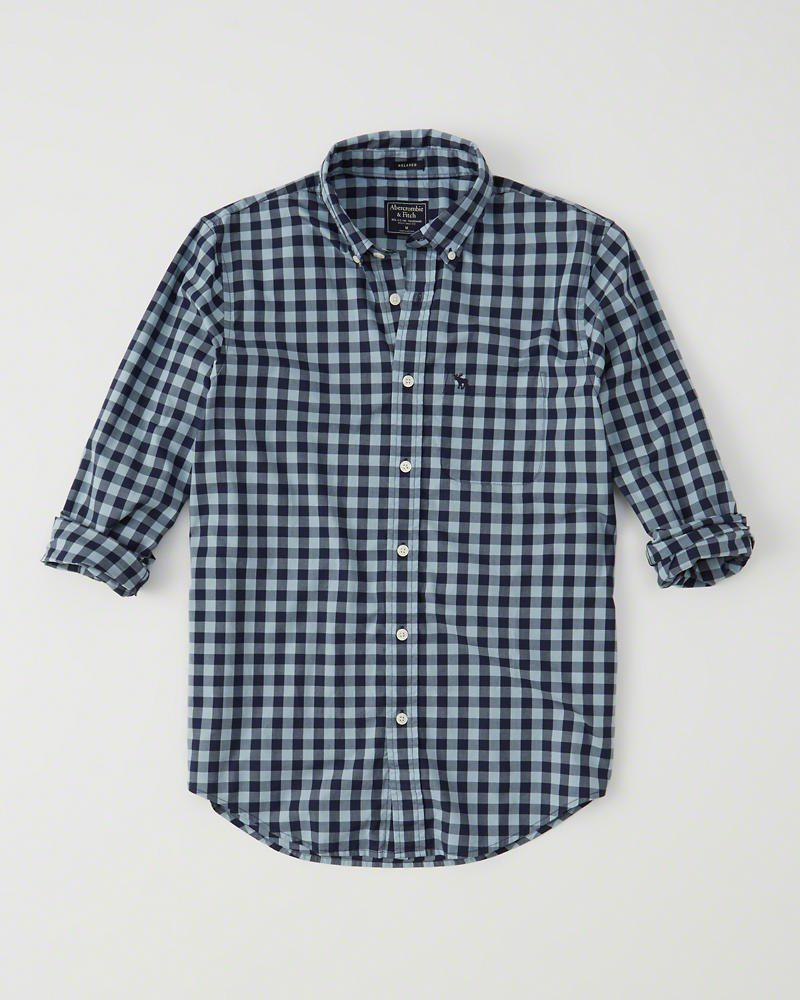teeshirt: (41, 125, 753, 856)
